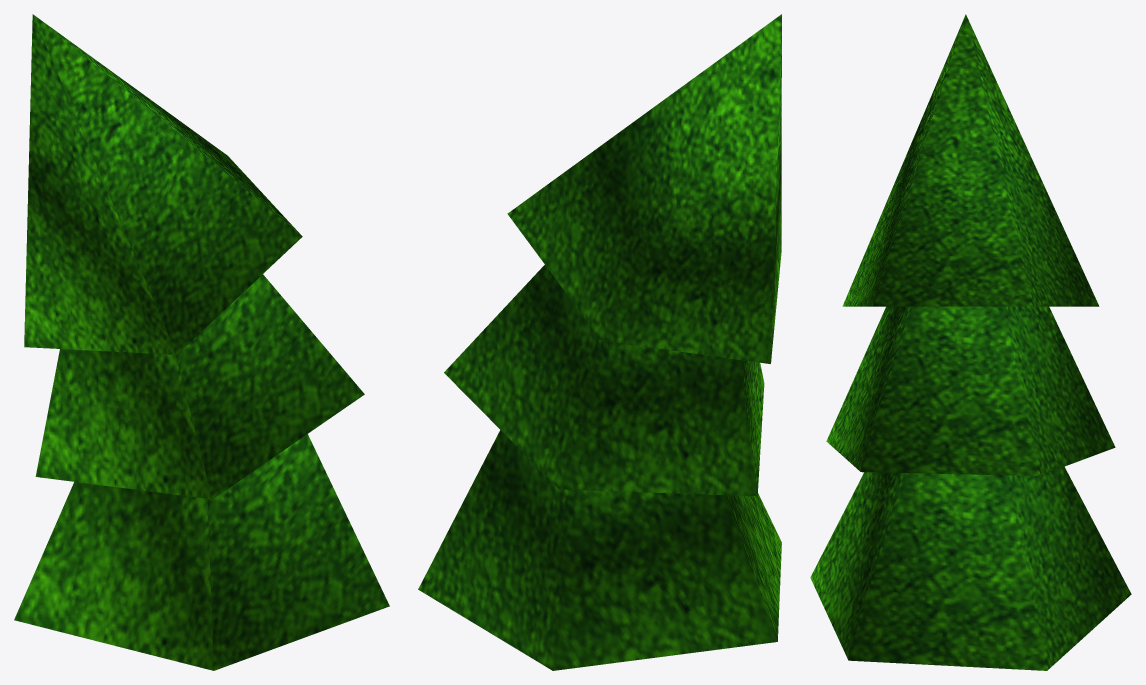
File: HD_DA_Tree_pine_1x1_002.FBX
3 views of the same model, side by side, from view 1: azimuth 30°, elevation 25°; view 2: azimuth 150°, elevation 25°; view 3: azimuth 270°, elevation 25° (orthographic). The views are drawn at different scales.
Visible parts, largest first — view 1: HD_DA_Trees_Pine__001; view 2: HD_DA_Trees_Pine__001; view 3: HD_DA_Trees_Pine__001.
Part boxes in pixels (x1,y1,x2,y2): HD_DA_Trees_Pine__001: (14,14,389,670); HD_DA_Trees_Pine__001: (418,14,781,670); HD_DA_Trees_Pine__001: (810,14,1131,670).
Size of the model in its own units: 117 by 214 by 119.
1 material, 1 textured.
